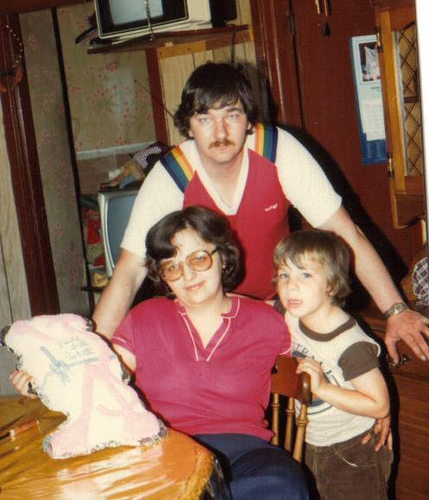without_mask: (156, 225, 231, 309), (270, 243, 342, 320), (186, 96, 253, 163)
